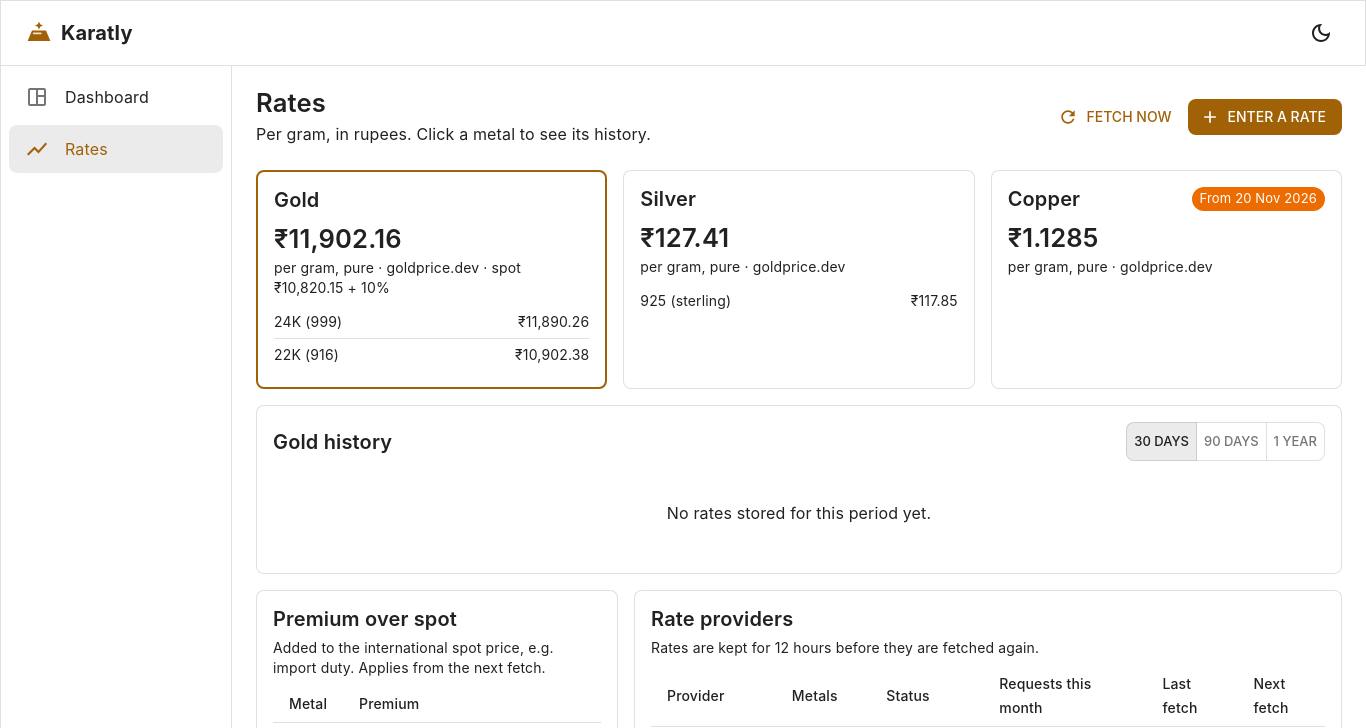
Test: Rates page › switches the history to the metal that is clicked
What coordinates should you click on to do the following:
click the element named "Silver rate"
I would click on:
 (799, 280)
Its box is [623,170,975,389].
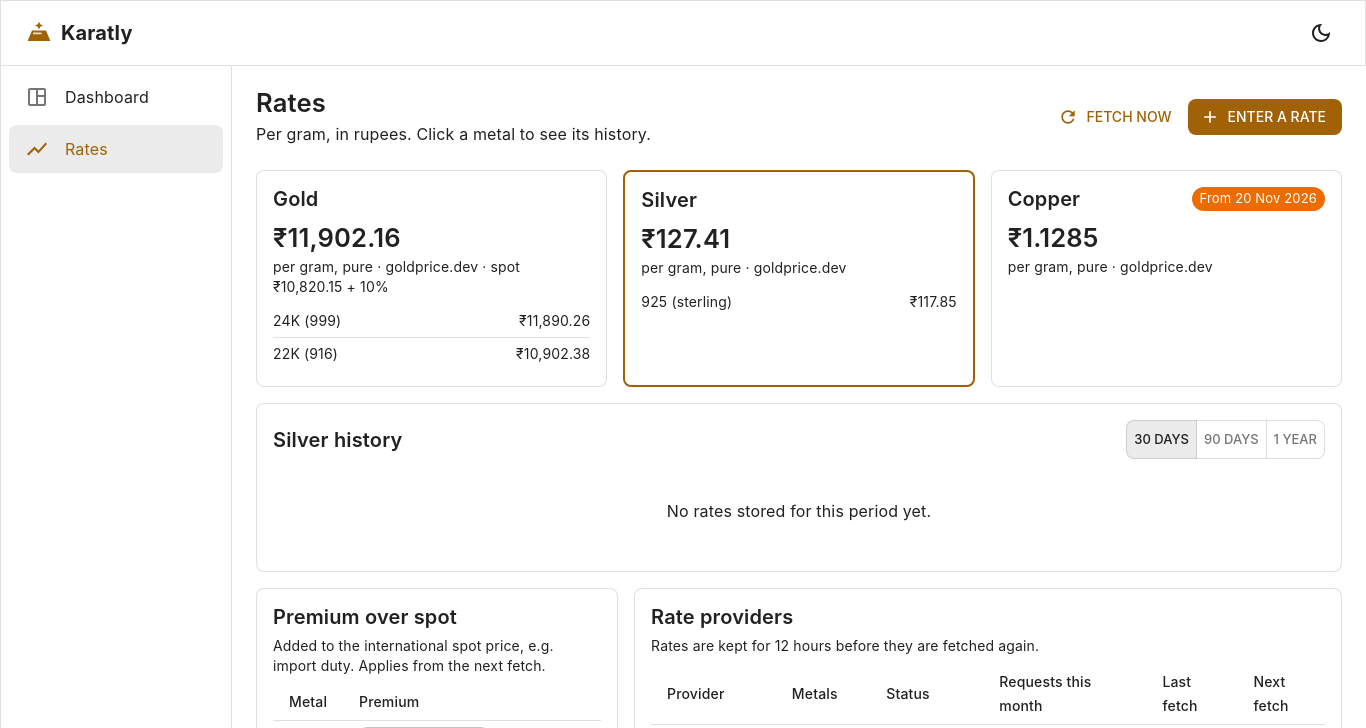
Check: the text "No rates stored for this period yet." is shown, box [667,501,931,521]
Check: the heading "Silver history" is shown, box [273,428,402,452]
